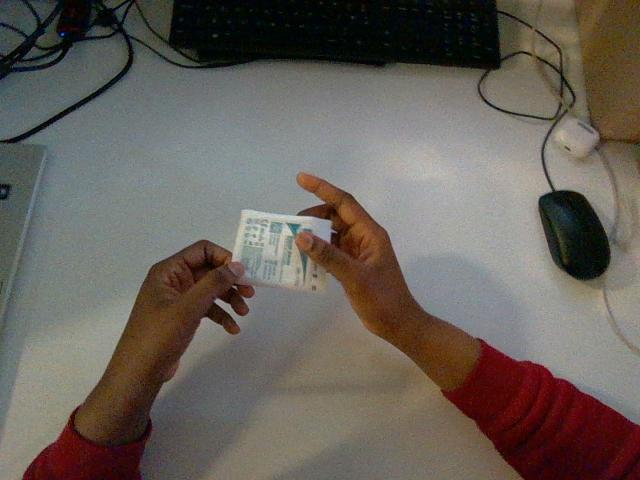gauze: (232, 210, 331, 292)
